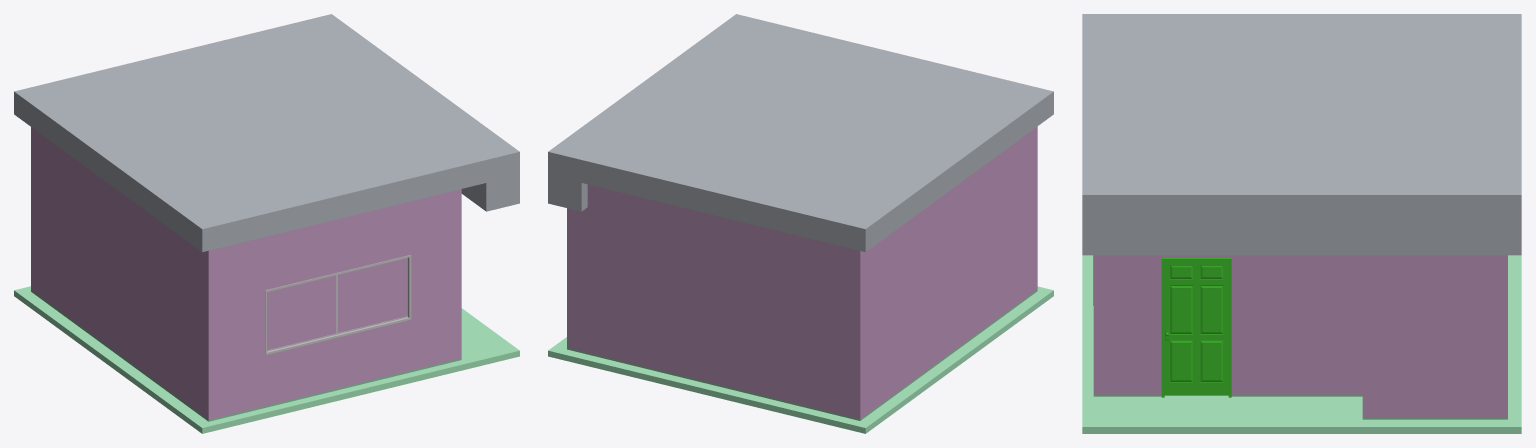
Rendered from FloorPlan8_physics.fbx.
3 renders of one model, left to right at view 1: azimuth 30°, elevation 25°; view 2: azimuth 150°, elevation 25°; view 3: azimuth 270°, elevation 25°, orthographic. The views are drawn at different scales.
Parts seen in each view (by area): view 1: Ceiling, StandardWallSize, FloorMat, Window, WindowFrame; view 2: StandardWallSize, Ceiling, FloorMat; view 3: Ceiling, StandardWallSize, FloorMat, StandardDoor1, StandardDoorFrame1.
Boxes of the visible parts, x1,y1,x2,y2 form: Ceiling: [14, 14, 519, 251]; StandardWallSize: [31, 127, 461, 421]; FloorMat: [14, 286, 519, 433]; Window: [267, 258, 406, 350]; WindowFrame: [265, 255, 411, 355]; StandardWallSize: [567, 126, 1037, 420]; Ceiling: [548, 14, 1053, 251]; FloorMat: [548, 286, 1053, 433]; Ceiling: [1082, 14, 1521, 255]; StandardWallSize: [1093, 255, 1507, 419]; FloorMat: [1082, 255, 1521, 433]; StandardDoor1: [1164, 261, 1228, 395]; StandardDoorFrame1: [1161, 258, 1231, 397].
Size of the model in its own units: 565 by 348 by 580.
